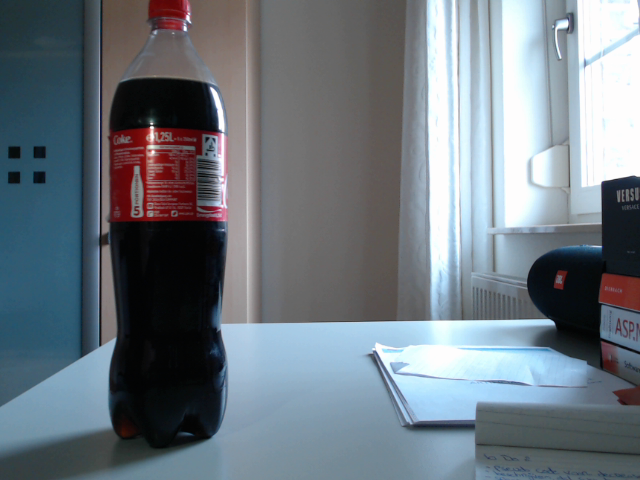bottle: (107, 1, 227, 450)
